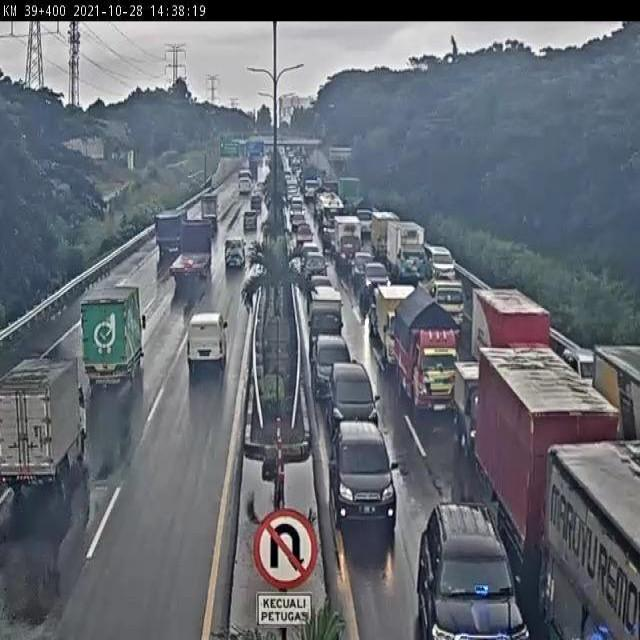big truck: (480, 346, 600, 526), (547, 452, 640, 640), (469, 284, 561, 365), (591, 326, 639, 446), (172, 225, 214, 288), (148, 204, 187, 259)
car: (420, 490, 532, 640), (330, 419, 398, 528), (312, 330, 368, 414), (325, 361, 386, 436), (178, 308, 230, 369), (567, 334, 607, 394), (219, 235, 250, 272), (240, 207, 259, 233)
small truck: (0, 360, 84, 495), (399, 292, 462, 413), (84, 282, 148, 386), (450, 361, 502, 468), (378, 280, 425, 364), (387, 220, 436, 292), (422, 273, 474, 332), (201, 194, 220, 222)
